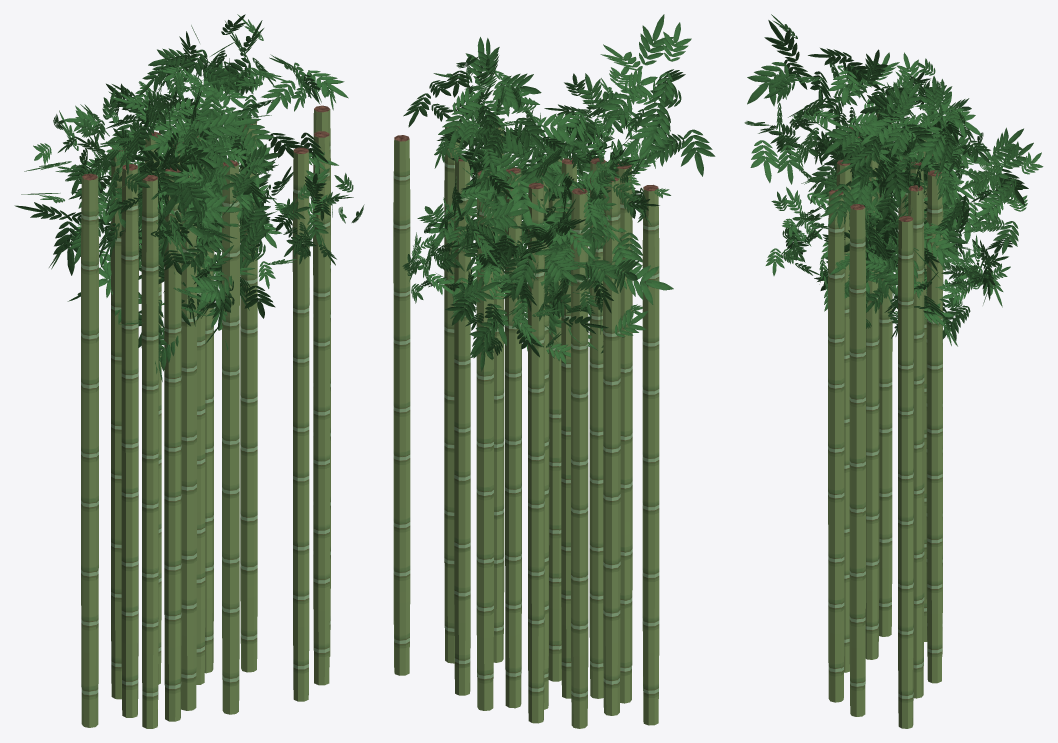
File: Bambusgreen.fbx
The picture shows the model from 3 angles, left to right: view 1: azimuth 30°, elevation 25°; view 2: azimuth 150°, elevation 25°; view 3: azimuth 270°, elevation 25°; orthographic projection. The views are drawn at different scales.
Parts seen in each view (by area): view 1: Cube.015, Cube.015|Bambusblätter|Dupli|5.0.0.0.0.0.0.0.0.0, Cube.015|Bambusblätter|Dupli|0.0.0.0.0.0.0.0.0.0, Cube.015|Bambusblätter|Dupli|6.0.0.0.0.0.0.0.0.0, Cube.015|Bambusblätter|Dupli|21.0.0.0.0.0.0.0.0.0, Cube.015|Bambusblätter|Dupli|1.0.0.0.0.0.0.0.0.0, Cube.015|Bambusblätter|Dupli|13.0.0.0.0.0.0.0.0.0, Cube.015|Bambusblätter|Dupli|2.0.0.0.0.0.0.0.0.0, Cube.015|Bambusblätter|Dupli|14.0.0.0.0.0.0.0.0.0, Cube.015|Bambusblätter|Dupli|4.0.0.0.0.0.0.0.0.0, Cube.015|Bambusblätter|Dupli|11.0.0.0.0.0.0.0.0.0, Cube.015|Bambusblätter|Dupli|8.0.0.0.0.0.0.0.0.0 (+8 smaller); view 2: Cube.015, Cube.015|Bambusblätter|Dupli|5.0.0.0.0.0.0.0.0.0, Cube.015|Bambusblätter|Dupli|21.0.0.0.0.0.0.0.0.0, Cube.015|Bambusblätter|Dupli|2.0.0.0.0.0.0.0.0.0, Cube.015|Bambusblätter|Dupli|12.0.0.0.0.0.0.0.0.0, Cube.015|Bambusblätter|Dupli|20.0.0.0.0.0.0.0.0.0, Cube.015|Bambusblätter|Dupli|19.0.0.0.0.0.0.0.0.0, Cube.015|Bambusblätter|Dupli|10.0.0.0.0.0.0.0.0.0, Cube.015|Bambusblätter|Dupli|4.0.0.0.0.0.0.0.0.0, Cube.015|Bambusblätter|Dupli|8.0.0.0.0.0.0.0.0.0, Cube.015|Bambusblätter|Dupli|0.0.0.0.0.0.0.0.0.0, Cube.015|Bambusblätter|Dupli|11.0.0.0.0.0.0.0.0.0 (+8 smaller); view 3: Cube.015, Cube.015|Bambusblätter|Dupli|0.0.0.0.0.0.0.0.0.0, Cube.015|Bambusblätter|Dupli|5.0.0.0.0.0.0.0.0.0, Cube.015|Bambusblätter|Dupli|19.0.0.0.0.0.0.0.0.0, Cube.015|Bambusblätter|Dupli|18.0.0.0.0.0.0.0.0.0, Cube.015|Bambusblätter|Dupli|21.0.0.0.0.0.0.0.0.0, Cube.015|Bambusblätter|Dupli|6.0.0.0.0.0.0.0.0.0, Cube.015|Bambusblätter|Dupli|16.0.0.0.0.0.0.0.0.0, Cube.015|Bambusblätter|Dupli|1.0.0.0.0.0.0.0.0.0, Cube.015|Bambusblätter|Dupli|15.0.0.0.0.0.0.0.0.0, Cube.015|Bambusblätter|Dupli|4.0.0.0.0.0.0.0.0.0, Cube.015|Bambusblätter|Dupli|12.0.0.0.0.0.0.0.0.0 (+11 smaller).
Boxes of the visible parts, bbox=[...] form: Cube.015: bbox=[81, 105, 330, 728]; Cube.015|Bambusblätter|Dupli|5.0.0.0.0.0.0.0.0.0: bbox=[93, 85, 260, 243]; Cube.015|Bambusblätter|Dupli|0.0.0.0.0.0.0.0.0.0: bbox=[197, 14, 348, 177]; Cube.015|Bambusblätter|Dupli|6.0.0.0.0.0.0.0.0.0: bbox=[143, 135, 280, 230]; Cube.015|Bambusblätter|Dupli|21.0.0.0.0.0.0.0.0.0: bbox=[139, 14, 291, 162]; Cube.015|Bambusblätter|Dupli|1.0.0.0.0.0.0.0.0.0: bbox=[270, 159, 364, 265]; Cube.015|Bambusblätter|Dupli|13.0.0.0.0.0.0.0.0.0: bbox=[181, 186, 276, 318]; Cube.015|Bambusblätter|Dupli|2.0.0.0.0.0.0.0.0.0: bbox=[14, 167, 211, 324]; Cube.015|Bambusblätter|Dupli|14.0.0.0.0.0.0.0.0.0: bbox=[99, 157, 243, 302]; Cube.015|Bambusblätter|Dupli|4.0.0.0.0.0.0.0.0.0: bbox=[153, 59, 274, 227]; Cube.015|Bambusblätter|Dupli|11.0.0.0.0.0.0.0.0.0: bbox=[33, 87, 135, 208]; Cube.015|Bambusblätter|Dupli|8.0.0.0.0.0.0.0.0.0: bbox=[103, 65, 214, 215]; Cube.015: bbox=[393, 126, 659, 728]; Cube.015|Bambusblätter|Dupli|5.0.0.0.0.0.0.0.0.0: bbox=[581, 14, 715, 200]; Cube.015|Bambusblätter|Dupli|21.0.0.0.0.0.0.0.0.0: bbox=[438, 37, 555, 210]; Cube.015|Bambusblätter|Dupli|2.0.0.0.0.0.0.0.0.0: bbox=[499, 197, 673, 350]; Cube.015|Bambusblätter|Dupli|12.0.0.0.0.0.0.0.0.0: bbox=[489, 218, 598, 347]; Cube.015|Bambusblätter|Dupli|20.0.0.0.0.0.0.0.0.0: bbox=[445, 226, 556, 371]; Cube.015|Bambusblätter|Dupli|19.0.0.0.0.0.0.0.0.0: bbox=[417, 176, 531, 283]; Cube.015|Bambusblätter|Dupli|10.0.0.0.0.0.0.0.0.0: bbox=[472, 131, 641, 268]; Cube.015|Bambusblätter|Dupli|4.0.0.0.0.0.0.0.0.0: bbox=[448, 109, 589, 234]; Cube.015|Bambusblätter|Dupli|8.0.0.0.0.0.0.0.0.0: bbox=[539, 73, 640, 201]; Cube.015|Bambusblätter|Dupli|0.0.0.0.0.0.0.0.0.0: bbox=[403, 55, 539, 176]; Cube.015|Bambusblätter|Dupli|11.0.0.0.0.0.0.0.0.0: bbox=[573, 131, 670, 229]; Cube.015: bbox=[828, 111, 943, 728]; Cube.015|Bambusblätter|Dupli|0.0.0.0.0.0.0.0.0.0: bbox=[820, 77, 933, 228]; Cube.015|Bambusblätter|Dupli|5.0.0.0.0.0.0.0.0.0: bbox=[744, 14, 884, 182]; Cube.015|Bambusblätter|Dupli|19.0.0.0.0.0.0.0.0.0: bbox=[924, 141, 1043, 254]; Cube.015|Bambusblätter|Dupli|18.0.0.0.0.0.0.0.0.0: bbox=[910, 76, 990, 202]; Cube.015|Bambusblätter|Dupli|21.0.0.0.0.0.0.0.0.0: bbox=[845, 68, 982, 202]; Cube.015|Bambusblätter|Dupli|6.0.0.0.0.0.0.0.0.0: bbox=[758, 96, 851, 210]; Cube.015|Bambusblätter|Dupli|16.0.0.0.0.0.0.0.0.0: bbox=[822, 199, 962, 338]; Cube.015|Bambusblätter|Dupli|1.0.0.0.0.0.0.0.0.0: bbox=[765, 187, 848, 289]; Cube.015|Bambusblätter|Dupli|15.0.0.0.0.0.0.0.0.0: bbox=[914, 235, 1010, 324]; Cube.015|Bambusblätter|Dupli|4.0.0.0.0.0.0.0.0.0: bbox=[820, 119, 974, 261]; Cube.015|Bambusblätter|Dupli|12.0.0.0.0.0.0.0.0.0: bbox=[924, 127, 1028, 253].
Size of the model in its own units: 282 by 634 by 279.
